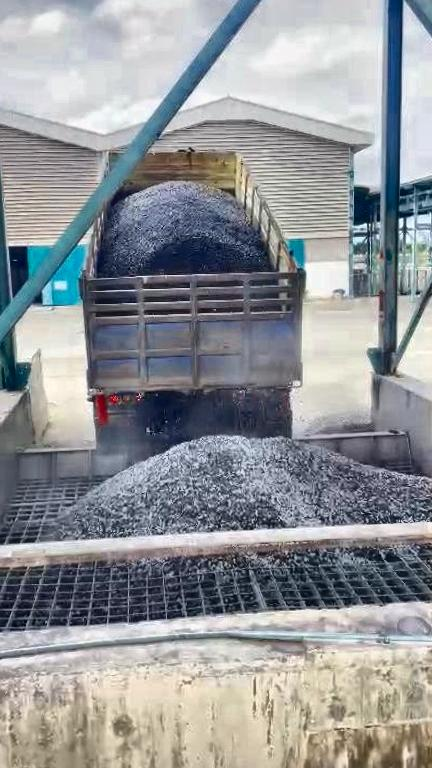gravel: (56, 437, 432, 538), (98, 181, 270, 277), (130, 546, 425, 582), (301, 410, 373, 436)
